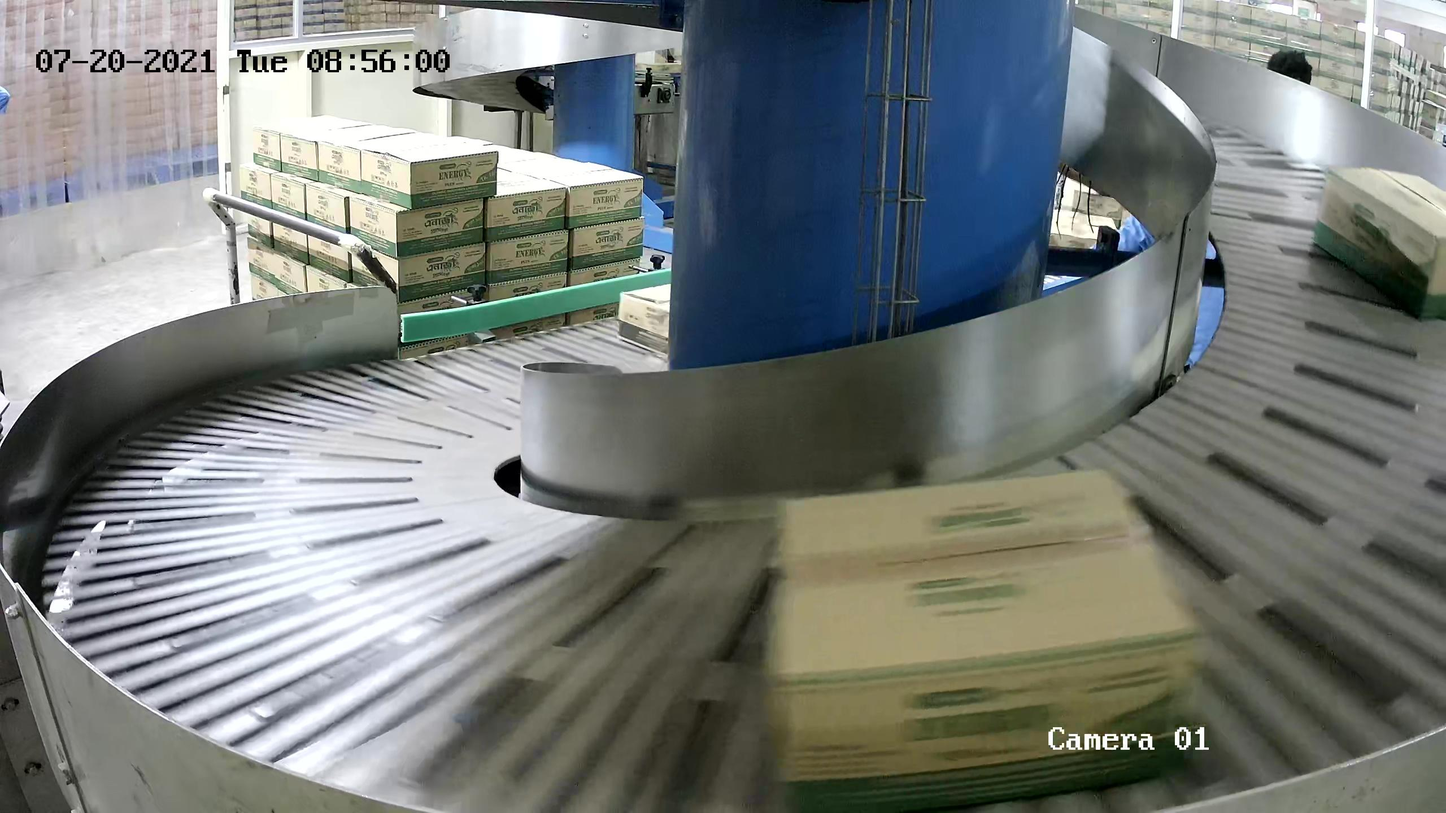Box: (757, 463, 1208, 813), (1312, 165, 1446, 321), (616, 283, 671, 357)
